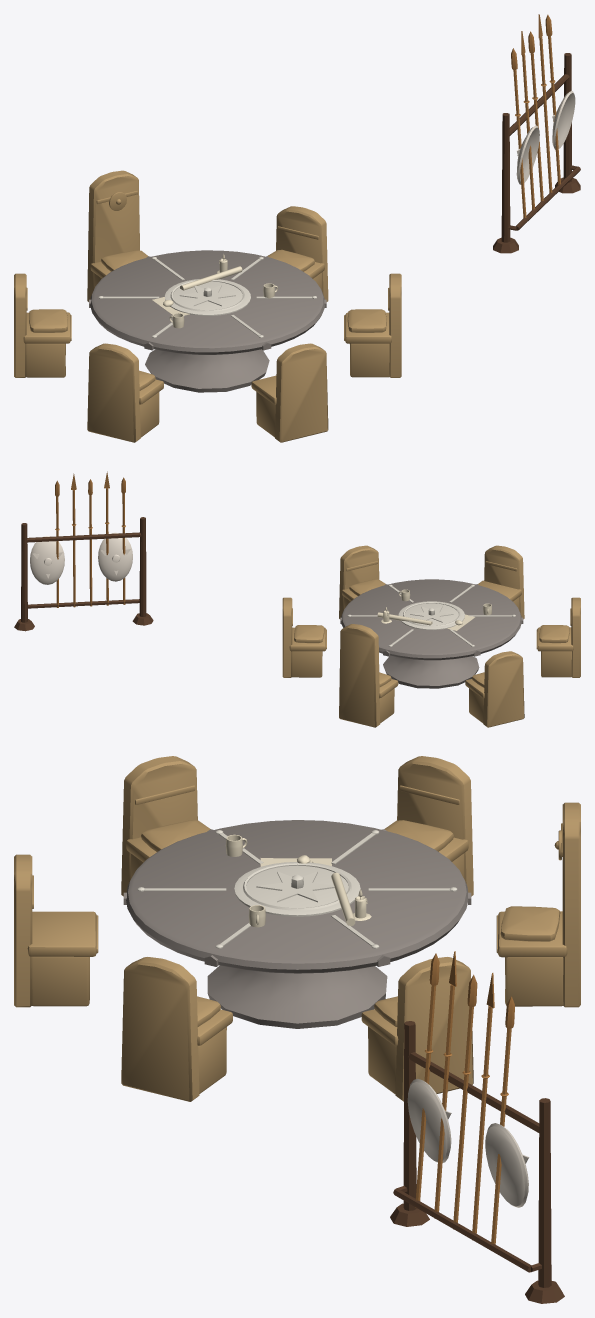
Rendered from nomad_building_b17_decor.fbx.
3 views of the same model, one above another, from view 1: azimuth 30°, elevation 25°; view 2: azimuth 150°, elevation 25°; view 3: azimuth 270°, elevation 25° (orthographic). The views are drawn at different scales.
Visible parts, largest first — view 1: C__CouncilTable__01, C__WeaponRack__01; view 2: C__CouncilTable__01, C__WeaponRack__01; view 3: C__CouncilTable__01, C__WeaponRack__01.
Boxes of the visible parts, box(x1,y1,x2,y2) form: C__CouncilTable__01: box(14, 170, 401, 442); C__WeaponRack__01: box(493, 14, 580, 253); C__CouncilTable__01: box(282, 545, 580, 727); C__WeaponRack__01: box(14, 471, 153, 631); C__CouncilTable__01: box(14, 756, 580, 1101); C__WeaponRack__01: box(390, 951, 564, 1303).
Bounding box in the file's own units: 1374 × 443 × 752.
